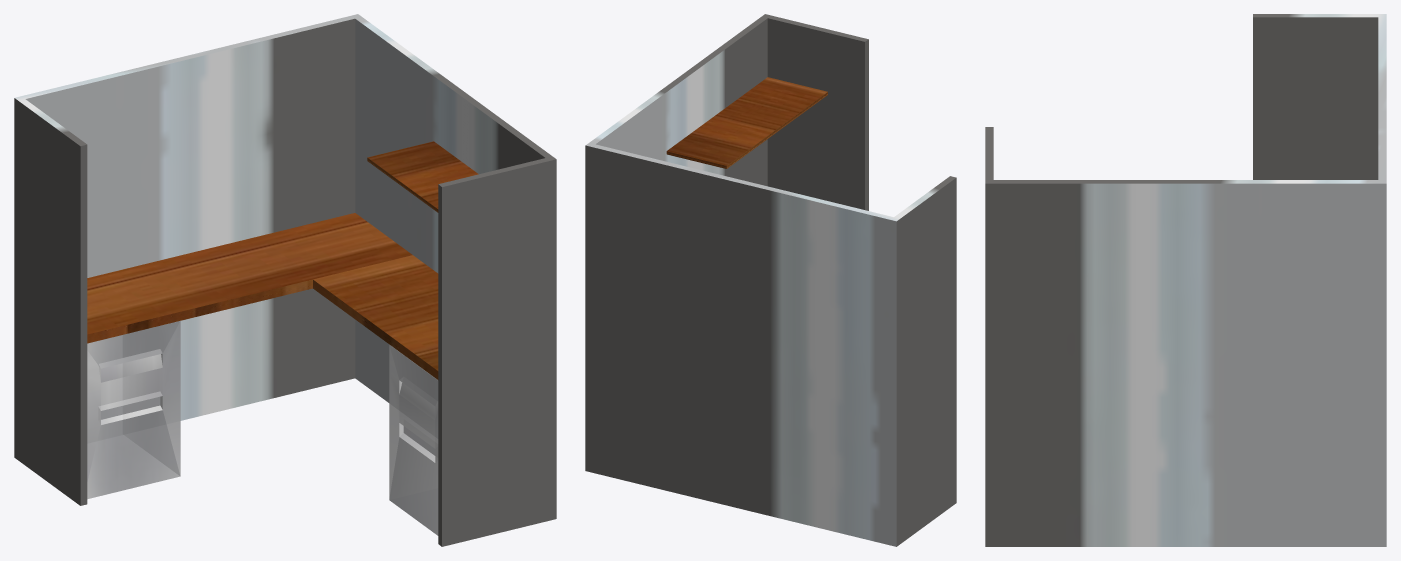
Rendered from desk.fbx.
3 renders of one model, left to right at view 1: azimuth 30°, elevation 25°; view 2: azimuth 150°, elevation 25°; view 3: azimuth 270°, elevation 25°, orthographic. The views are drawn at different scales.
Visible parts, largest first — view 1: Desk panels, desk, drawer2, drawer2.001, Cube; view 2: Desk panels, Cube; view 3: Desk panels.
Boxes of the visible parts, x1,y1,x2,y2 form: Desk panels: [14, 14, 556, 546]; desk: [87, 213, 438, 379]; drawer2: [87, 321, 180, 499]; drawer2.001: [389, 344, 438, 535]; Cube: [367, 141, 478, 212]; Desk panels: [585, 14, 956, 546]; Cube: [666, 77, 827, 168]; Desk panels: [985, 14, 1386, 546].
Size of the model in its own units: 200 by 200 by 200.
